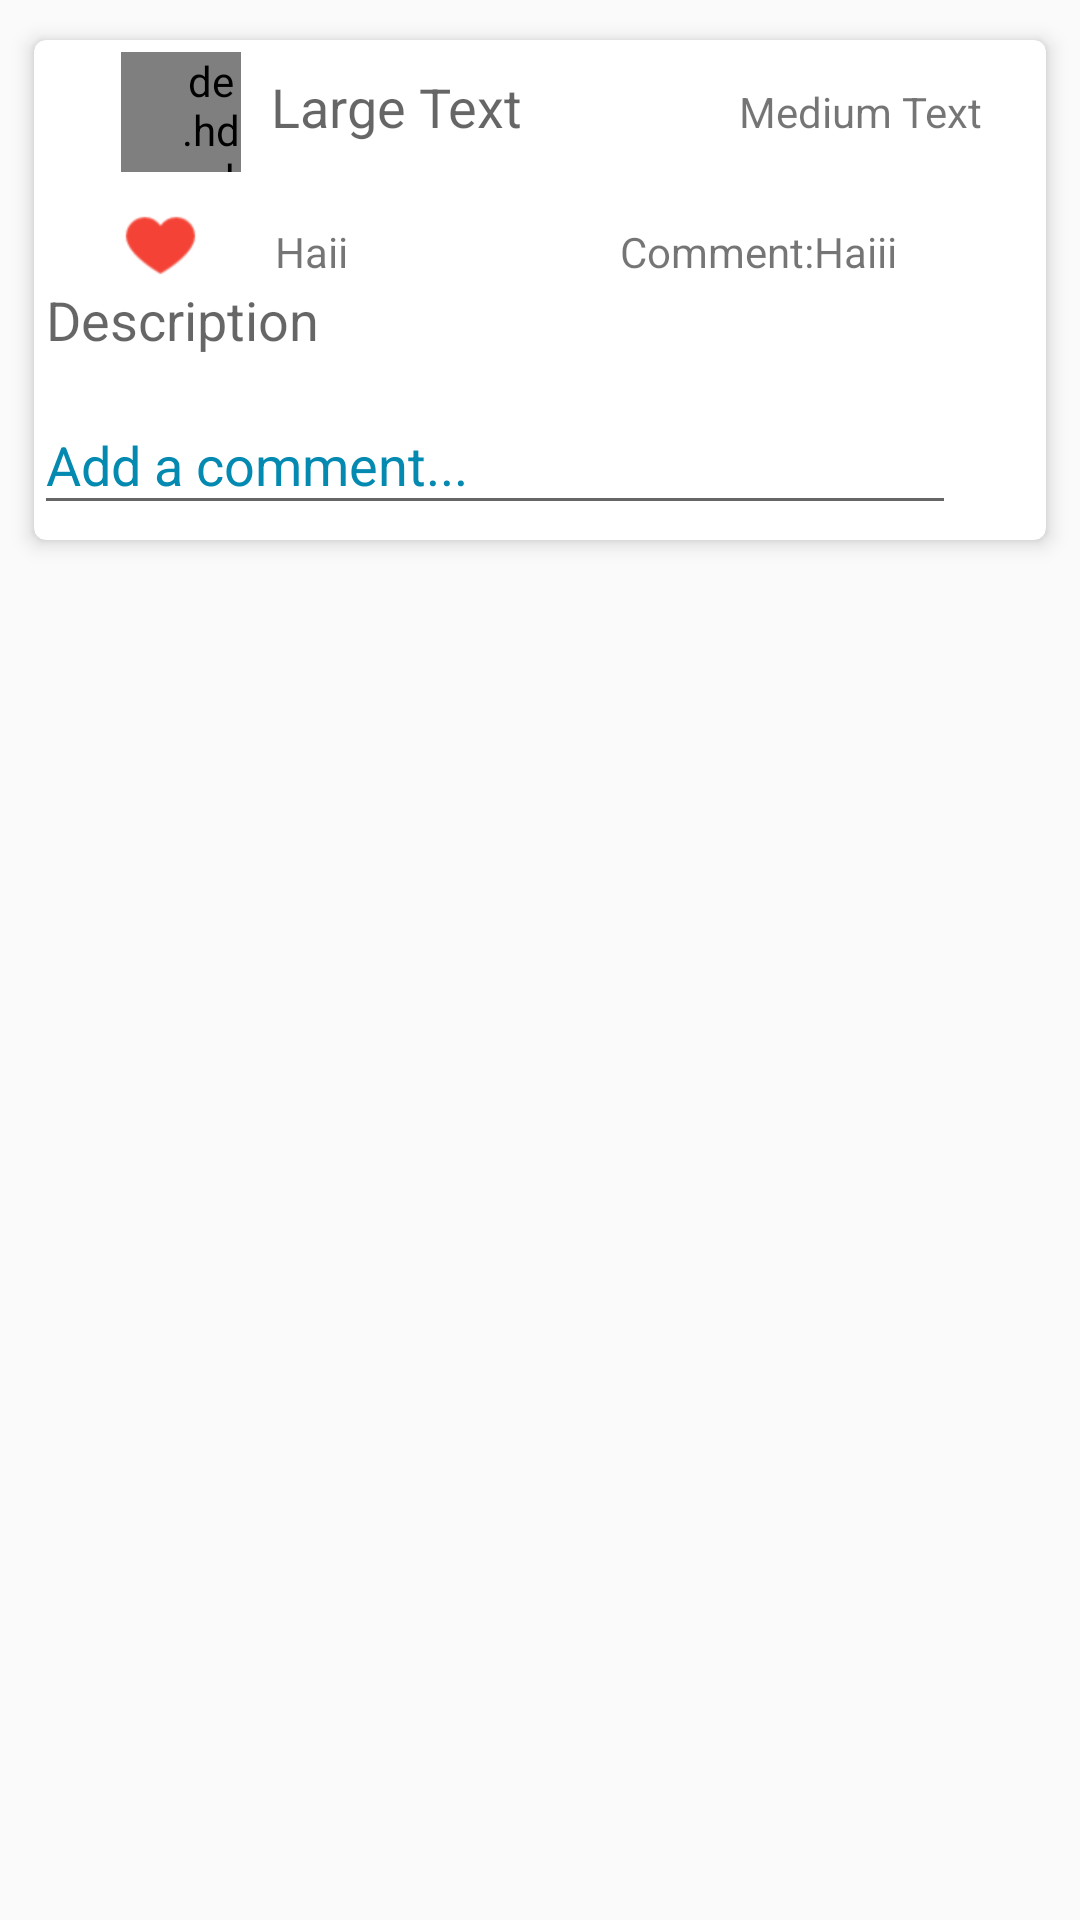

Icons on this 1080px×1920px Android screen, each with the point to tap as [x,y]:
likefilled: [160,245]
